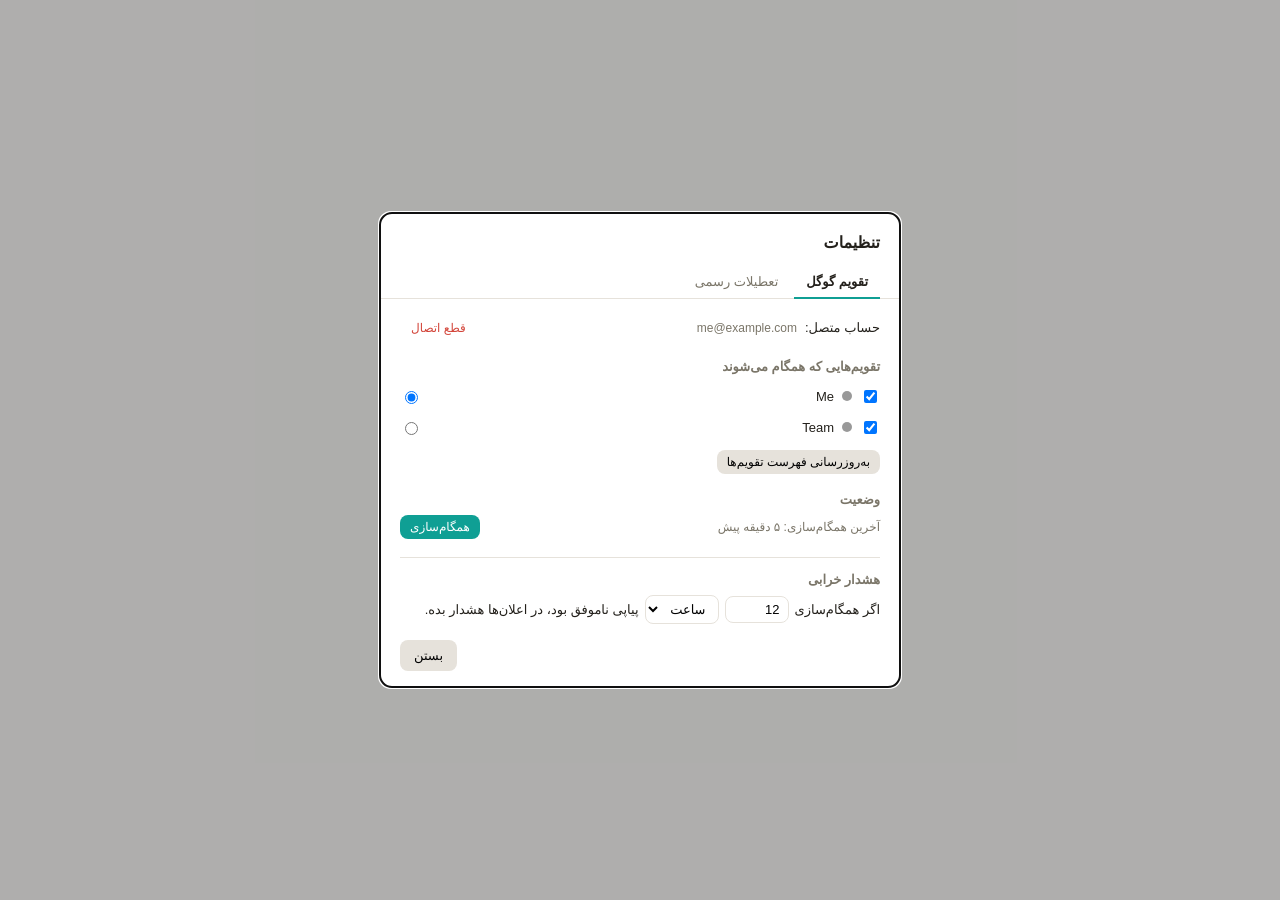
Test case: Settings — choosing where new events go › picking another enabled calendar as the default saves it and moves the selection
Click the radio button named "تقویم پیش‌فرض برای رویدادهای جدید" in the row of "Team": {"x": 412, "y": 429} left=405, top=422, right=418, bottom=435
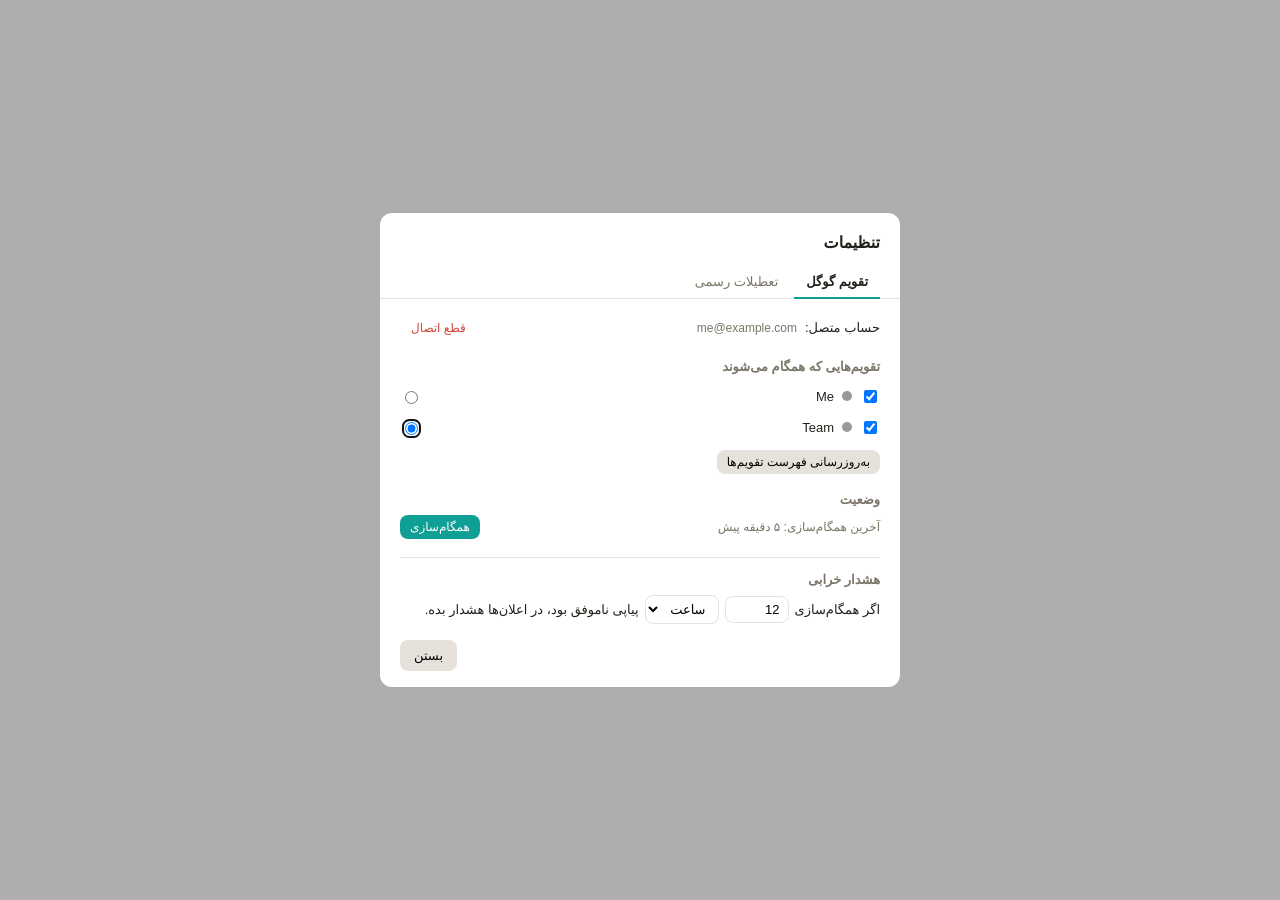
Now the radio button named "تقویم پیش‌فرض برای رویدادهای جدید" in the row of "Team" is checked, box left=405, top=422, right=418, bottom=435
Now the 1st radio button named "تقویم پیش‌فرض برای رویدادهای جدید" is not checked, box left=405, top=391, right=418, bottom=404
Note: Disabling one calendar leaves the other as it was.
Click the checkbox labelled "Me": {"x": 870, "y": 396} left=864, top=390, right=877, bottom=403
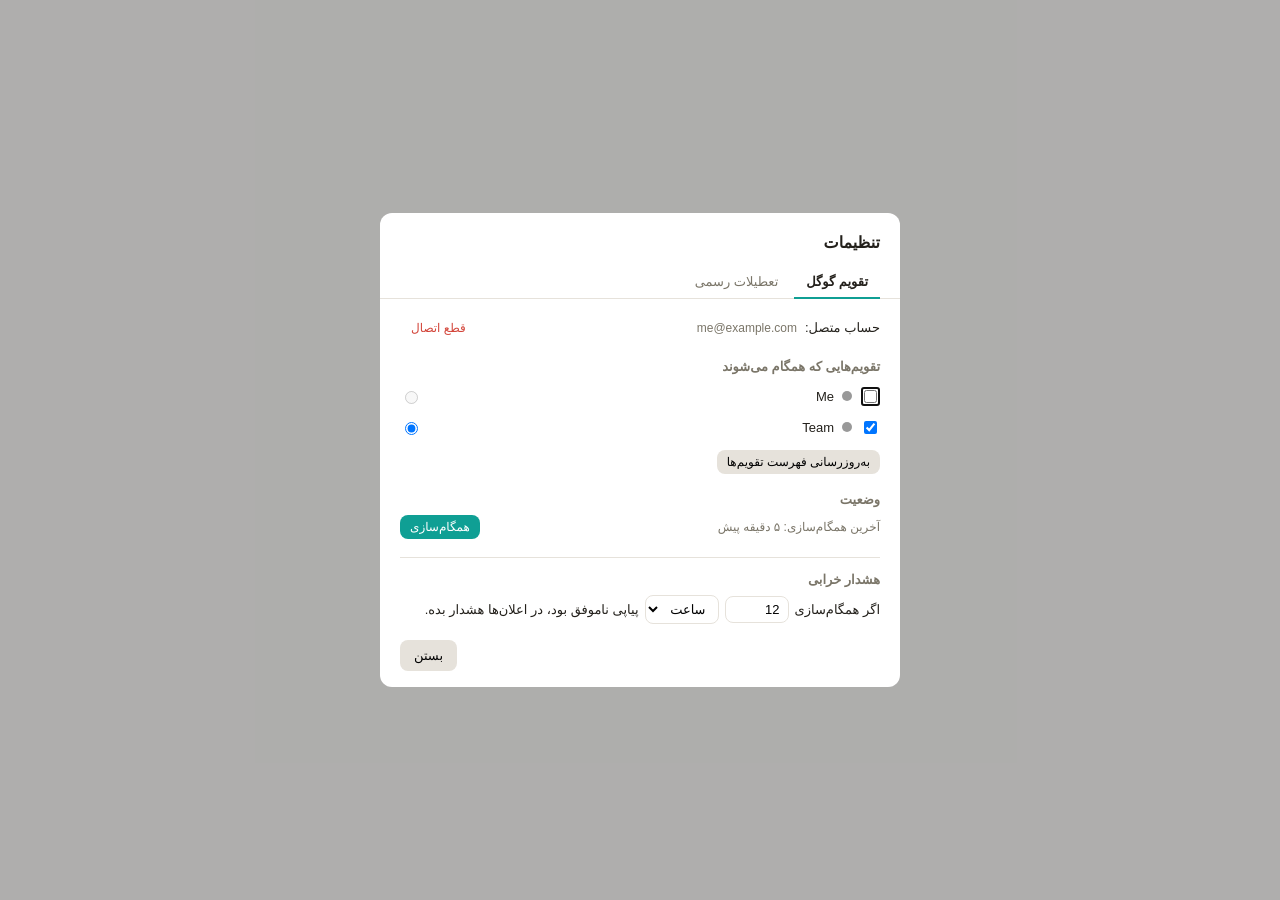
Expected: the checkbox labelled "Team" is checked, left=864, top=421, right=877, bottom=434
Now the checkbox labelled "Me" is not checked, box left=864, top=390, right=877, bottom=403
Now the 1st radio button named "تقویم پیش‌فرض برای رویدادهای جدید" is disabled, box left=405, top=391, right=418, bottom=404
